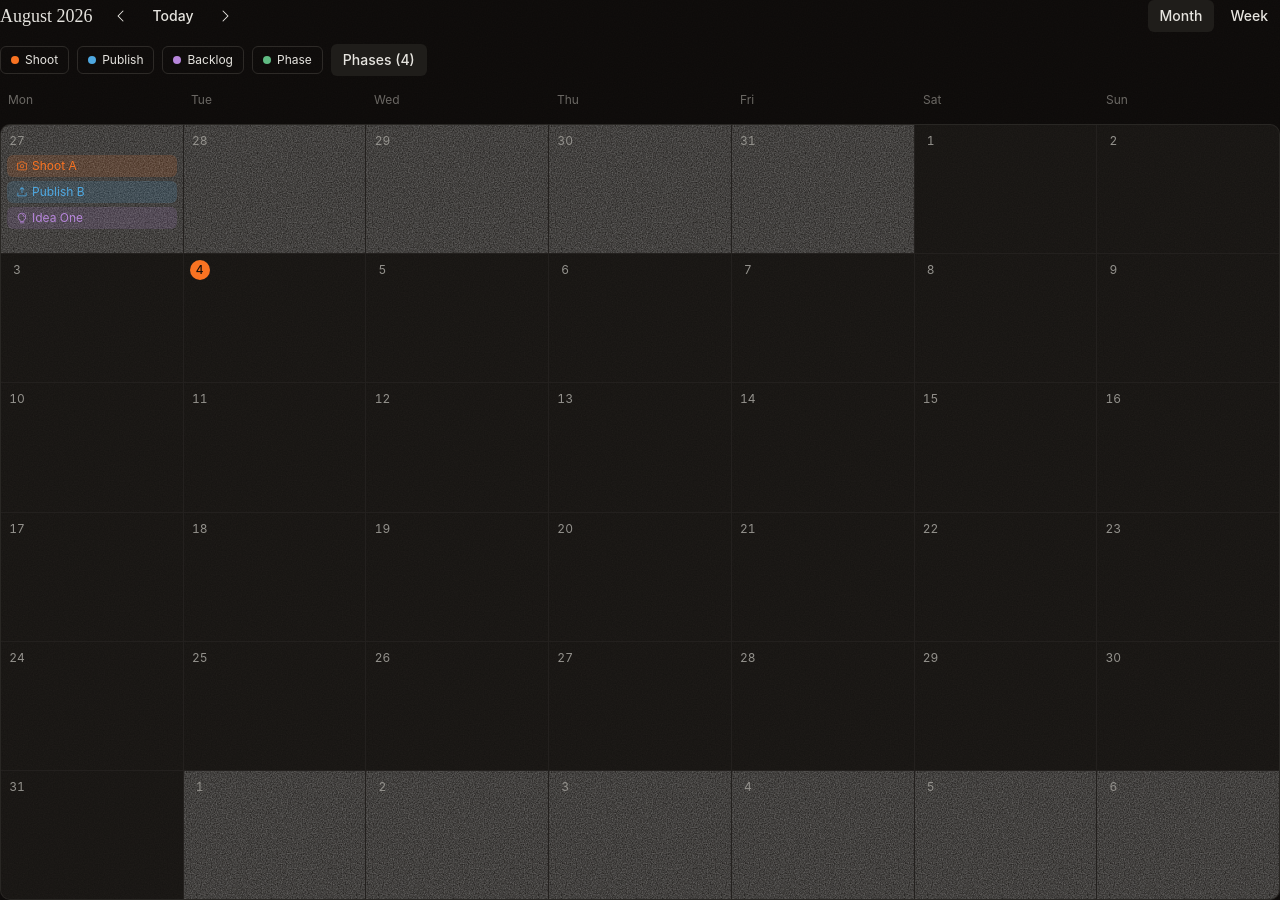
Test: CalendarView › disables pin editing on an unmounted studio root
This screenshot has width=1280, height=900.
Click the button "Shoot A" at (92,166), box [7,155,177,177]
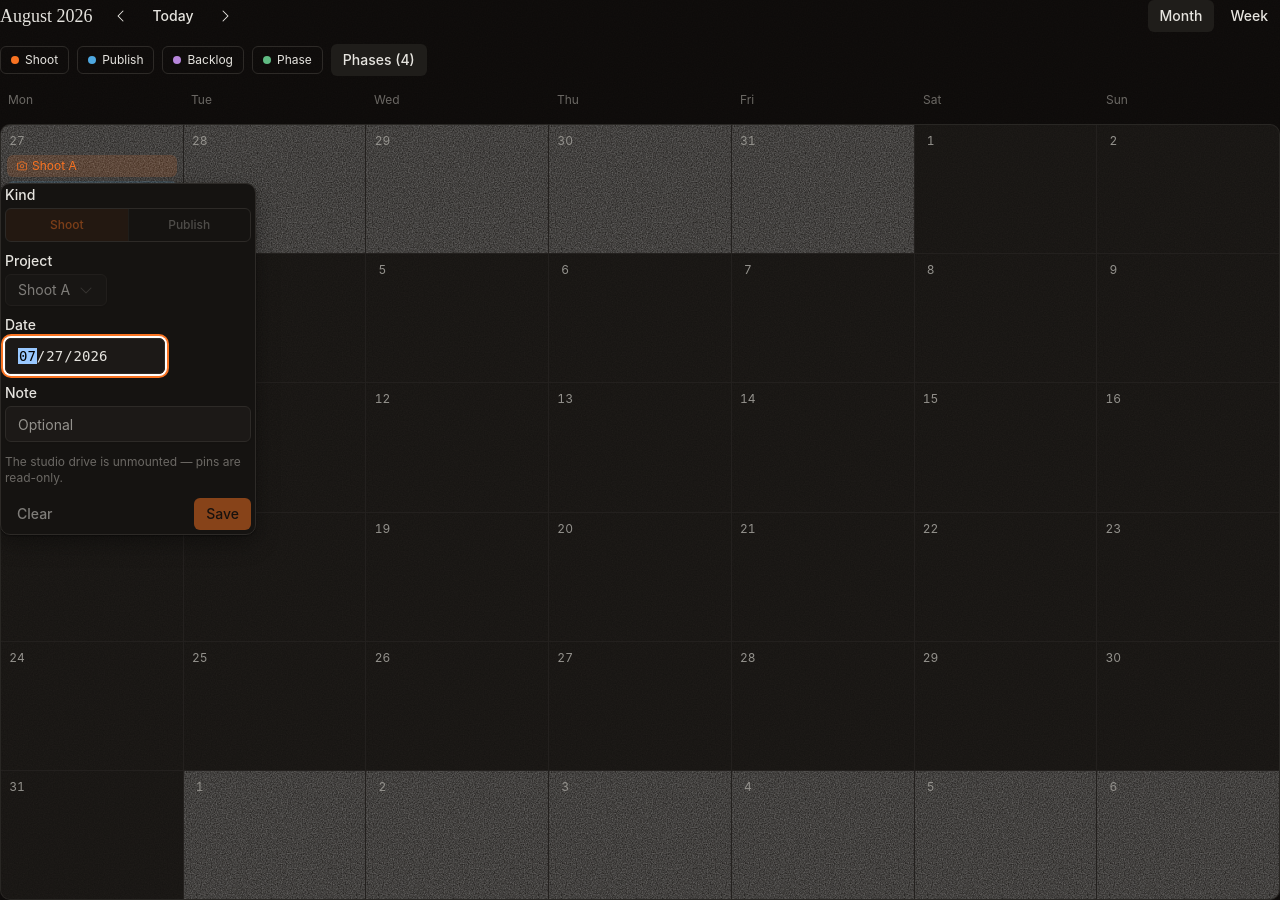
Now the button "Save" is disabled, box [194,498,251,530]
Now the button "Clear" is disabled, box [5,498,64,530]
